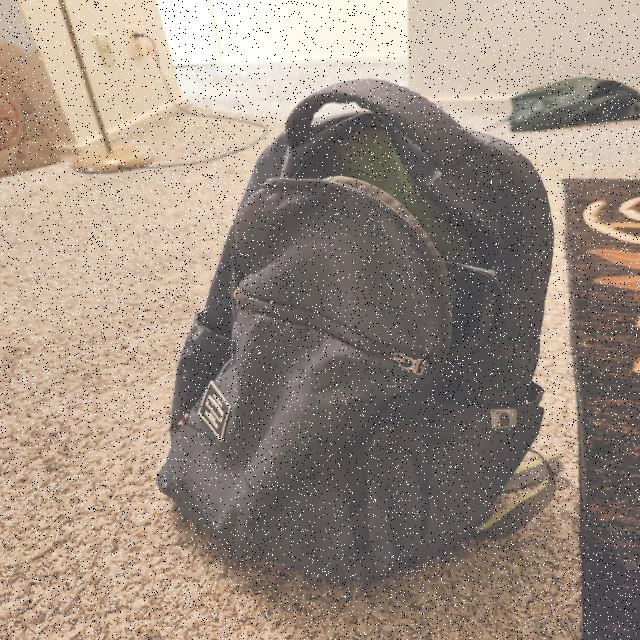bag: (162, 79, 552, 572)
